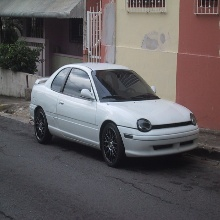no damage: (29, 61, 200, 169)
